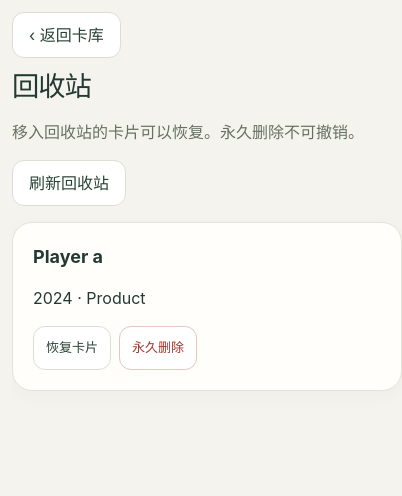
Scenario: retains trashed cards after a failed restore and allows retry
The width and height of the screenshot is (402, 496).
Expected: the heading "Player a" is shown, x1=33 y1=246 x2=103 y2=267
Click the button "恢复卡片": (72, 348) x1=33 y1=326 x2=111 y2=370
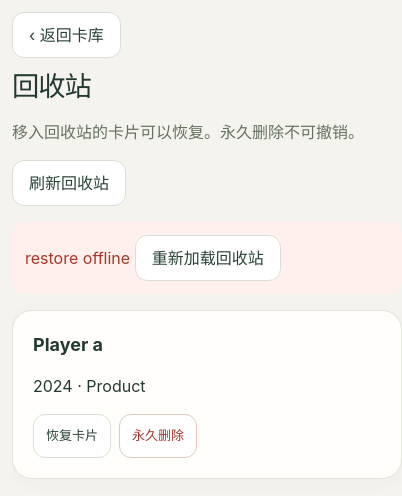
Expected: the heading "Player a" is shown, x1=33 y1=334 x2=103 y2=355
Result: the text "restore offline" is shown at x1=25 y1=248 x2=130 y2=268
Click the button "恢复卡片": (72, 436) x1=33 y1=414 x2=111 y2=458
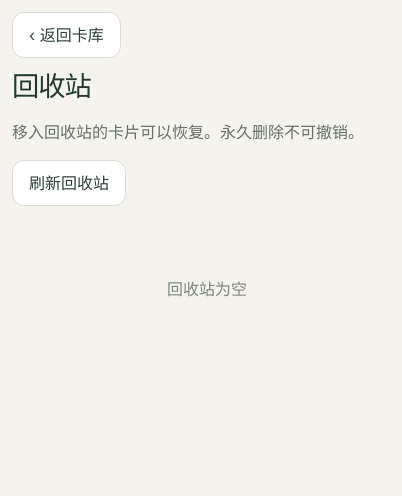
Result: the text "回收站为空" is shown at x1=167 y1=279 x2=247 y2=299
